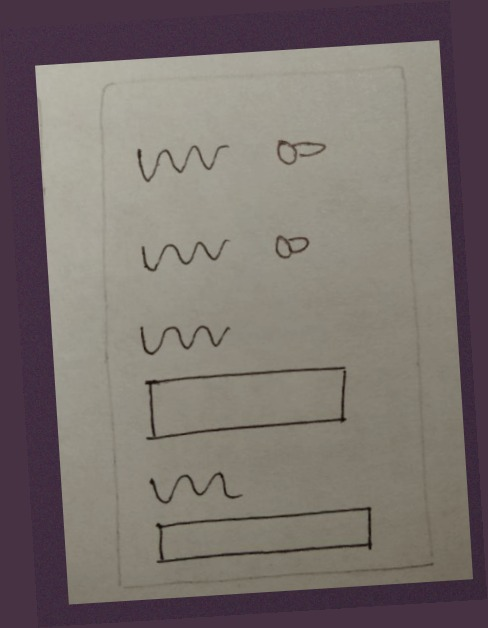switch: (264, 129, 340, 175), (263, 223, 322, 272)
text: (140, 456, 250, 515), (126, 134, 240, 189), (131, 309, 243, 362), (131, 229, 239, 282)
text_input: (133, 360, 361, 447), (149, 502, 383, 571)
